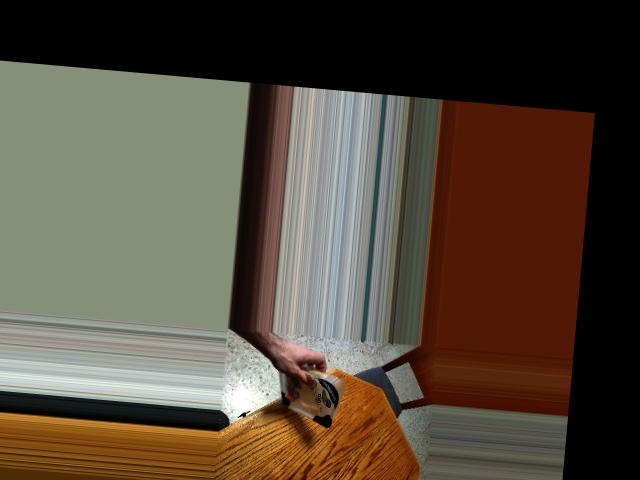cheese: (267, 367, 341, 423)
